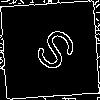S: (25, 25, 80, 82)
